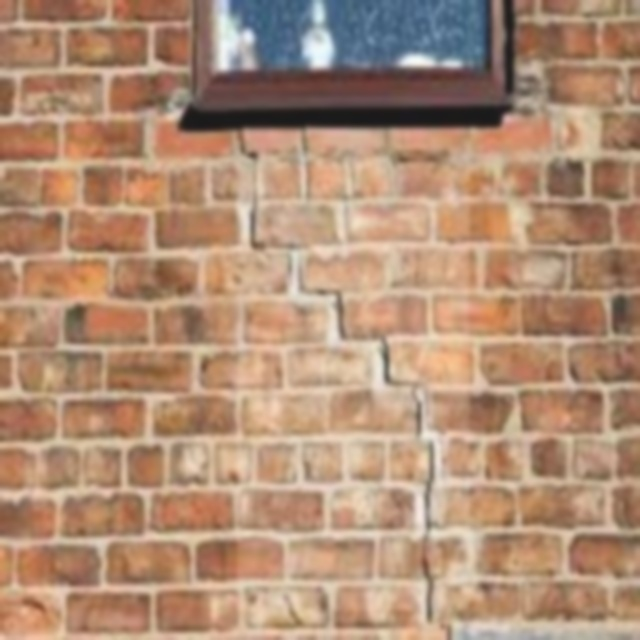SurfaceCrack: (208, 158, 436, 622)
